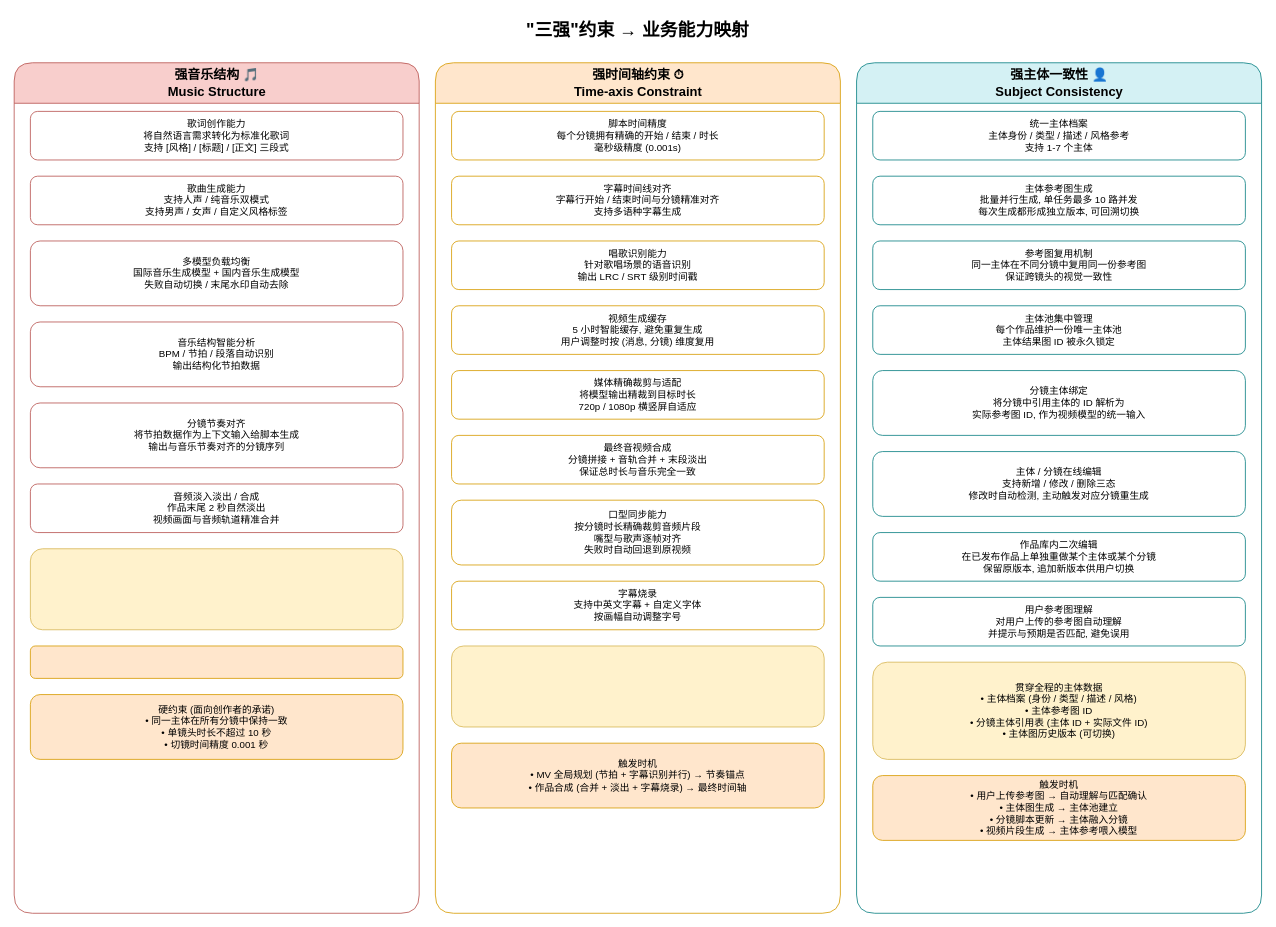
Some shapes in this 1276 by 927 pixel diagram are drawn without their labels. Here are the shapes that lost their labels. From the top down, the centre of each, then its label:
[216,589]: 面向用户的可控维度 • 歌曲标题 / 风格 / 歌词 • 是否纯音乐 / 男声 / 女声 • 词曲时间戳 (LRC) 供后续 MV 复用
[216,661]: 触发时机: MV 全局规划环节中 节拍分析与脚本生成并行执行
[637,686]: 贯穿全程的时间数据 • MV 总时长 / 分镜数 • 单分镜 开始 / 结束 / 时长 • 字幕行 时间戳 / 文本
